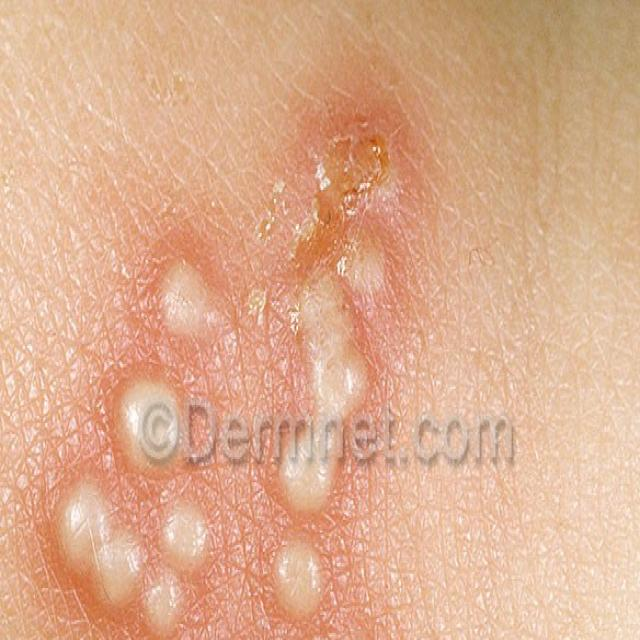Viral Infections: (4, 129, 479, 640)
